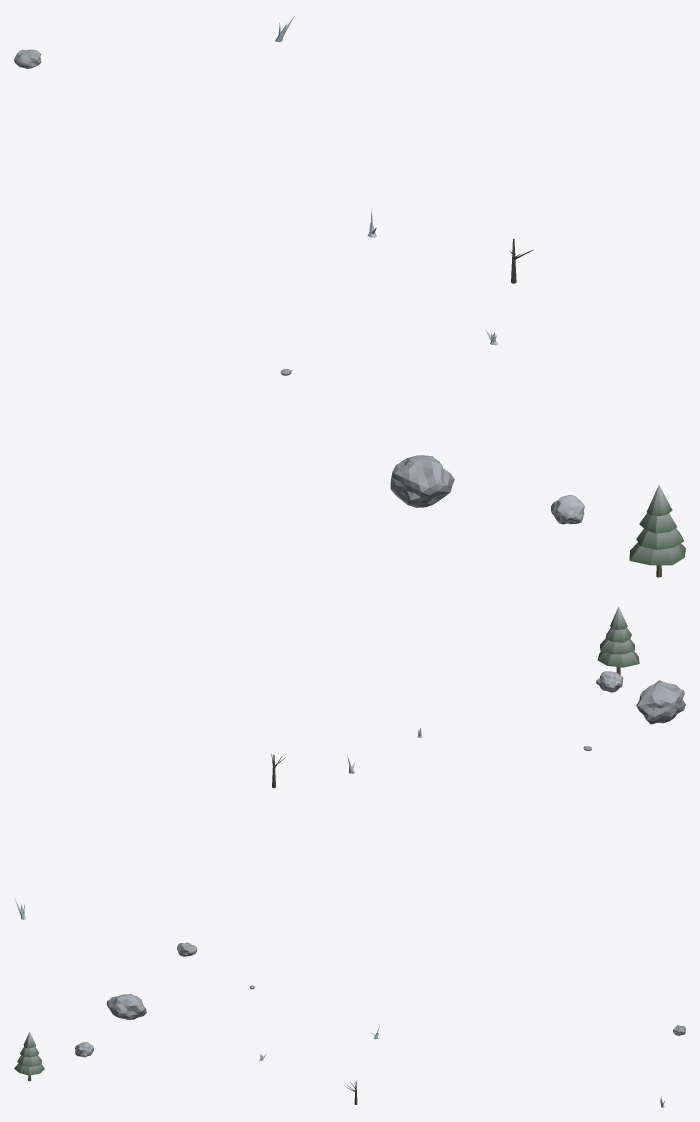
Rendered from frost_land_scatter_c15_13.glb.
3 renders of one model, top to bottom at view 1: azimuth 30°, elevation 25°; view 2: azimuth 150°, elevation 25°; view 3: azimuth 270°, elevation 25°, orthographic. The views are drawn at different scales.
Visible parts, largest first — view 1: frost_land_scatter_c15_13; view 2: frost_land_scatter_c15_13; view 3: frost_land_scatter_c15_13.
Part boxes in pixels (x1,y1,x2,y2): frost_land_scatter_c15_13: (14, 15, 685, 577); frost_land_scatter_c15_13: (14, 606, 685, 956); frost_land_scatter_c15_13: (14, 985, 685, 1107).
Size of the model in its own units: 43.4 by 12.87 by 119.
